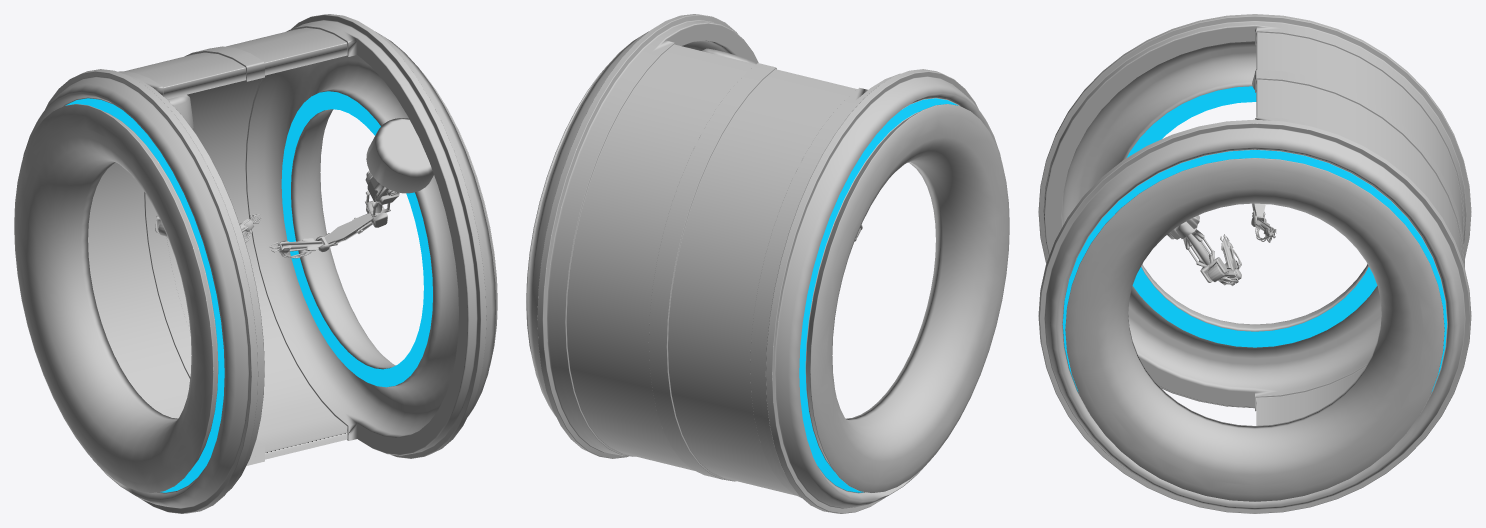
Rendered from UpgradeTable.gltf.
3 renders of one model, left to right at view 1: azimuth 30°, elevation 25°; view 2: azimuth 150°, elevation 25°; view 3: azimuth 270°, elevation 25°, orthographic. The views are drawn at different scales.
Parts seen in each view (by area): view 1: UpgradeTable; view 2: UpgradeTable; view 3: UpgradeTable.
Boxes of the visible parts, bbox=[...] form: UpgradeTable: bbox=[14, 14, 497, 513]; UpgradeTable: bbox=[526, 14, 1009, 513]; UpgradeTable: bbox=[1038, 14, 1471, 513].
Bounding box in the file's own units: 1.92 × 2.56 × 2.56.
